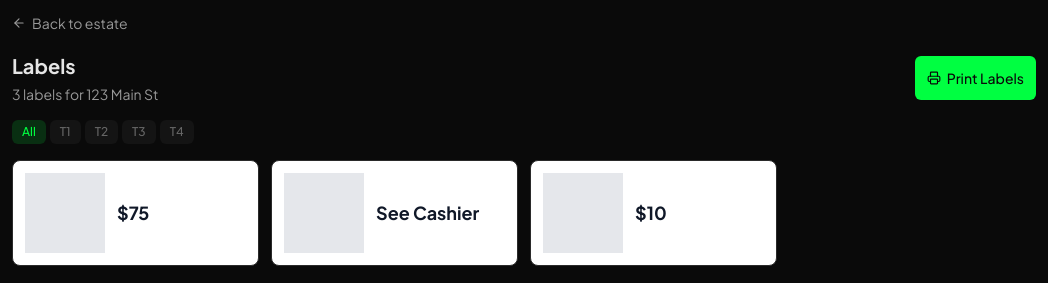
Scenario: LabelsView › filters by tier when tier button clicked
Click the button "T3" at (139, 132), box [122, 120, 156, 144]
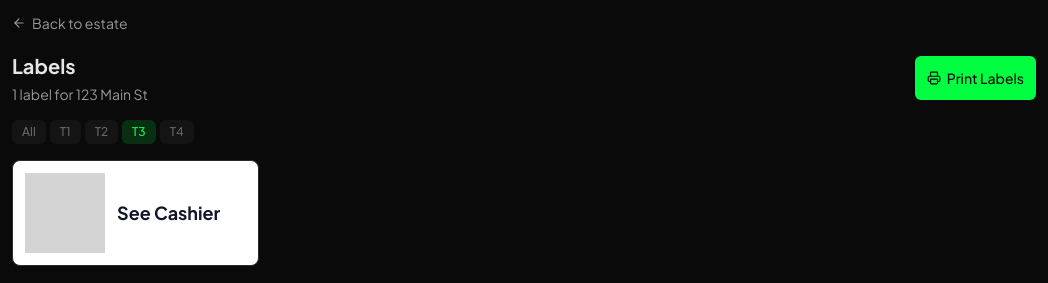
Expected: the number of elements with test id "item-label" is 1, [12, 160, 259, 266]
